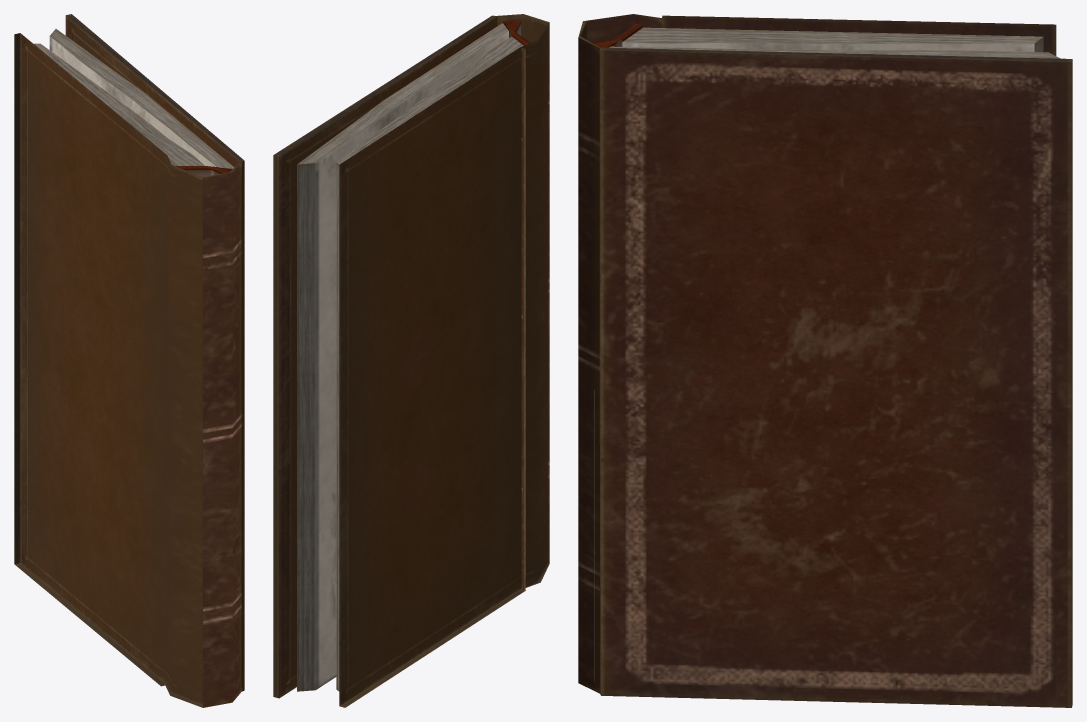
File: Book4.fbx
The picture shows the model from 3 angles, left to right: view 1: azimuth 30°, elevation 25°; view 2: azimuth 150°, elevation 25°; view 3: azimuth 270°, elevation 25°; orthographic projection. The views are drawn at different scales.
Visible parts, largest first — view 1: Book_02_low.001, Book_02_low; view 2: Book_02_low.001, Book_02_low; view 3: Book_02_low, Book_02_low.001.
Boxes of the visible parts, x1,y1,x2,y2 form: Book_02_low.001: (14,33,213,707); Book_02_low: (49,14,244,707); Book_02_low.001: (336,24,549,707); Book_02_low: (273,14,549,698); Book_02_low: (578,21,1072,707); Book_02_low.001: (583,14,1056,55).
Bounding box in the file's own units: 2.76 × 17.14 × 11.89.
